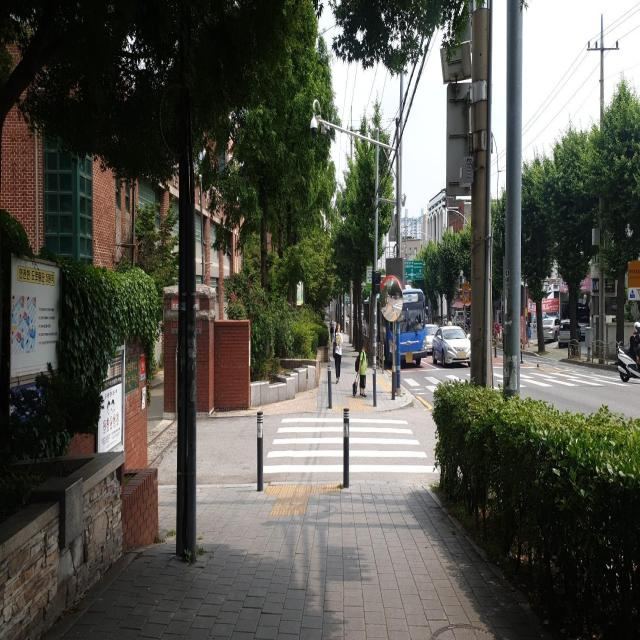횡단보도: (263, 416, 440, 474)
